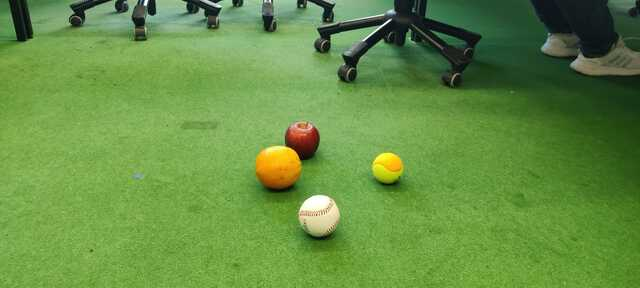013_apple: (285, 120, 321, 161)
017_orange: (255, 145, 303, 191)
055_baseball: (298, 194, 341, 238)
056_tennis_ball: (370, 151, 406, 184)
